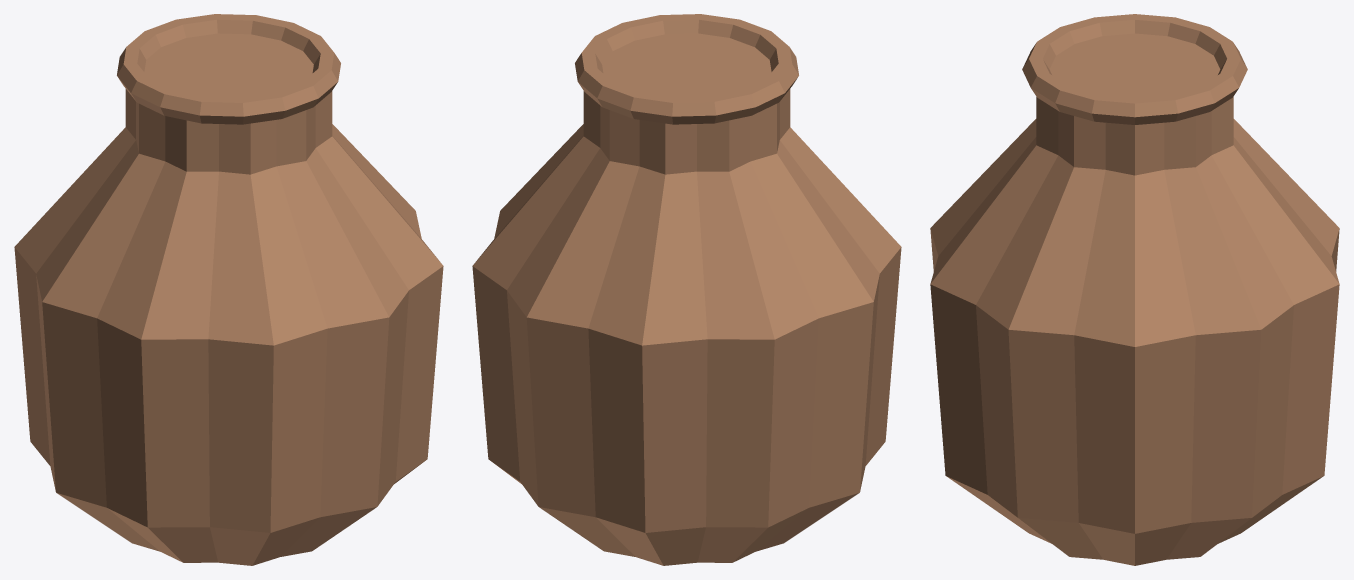
Rendered from jar.glb.
3 renders of one model, left to right at view 1: azimuth 30°, elevation 25°; view 2: azimuth 150°, elevation 25°; view 3: azimuth 270°, elevation 25°, orthographic.
Visible parts, largest first — view 1: jar; view 2: jar; view 3: jar.
Part boxes in pixels (x1,y1,x2,y2): jar: [14, 14, 443, 565]; jar: [472, 14, 901, 565]; jar: [930, 14, 1339, 565].
Bounding box in the file's own units: 0.5643 × 0.6656 × 0.5367.
